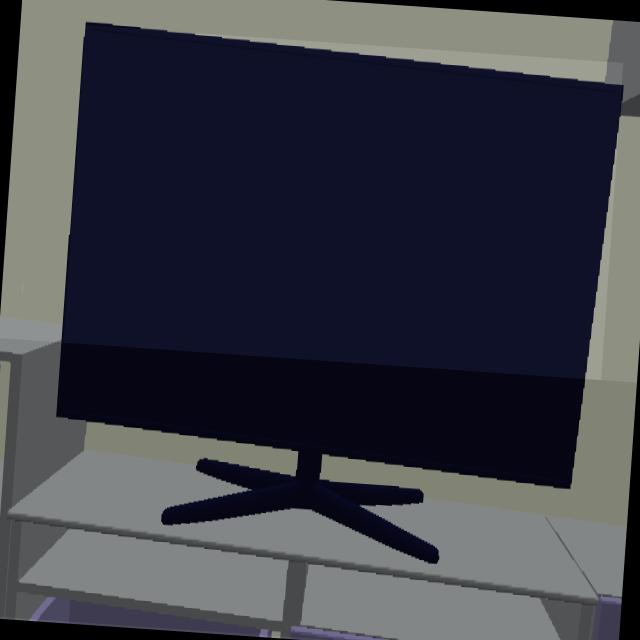cabinet: (0, 342, 624, 640)
monitor: (59, 25, 621, 561)
